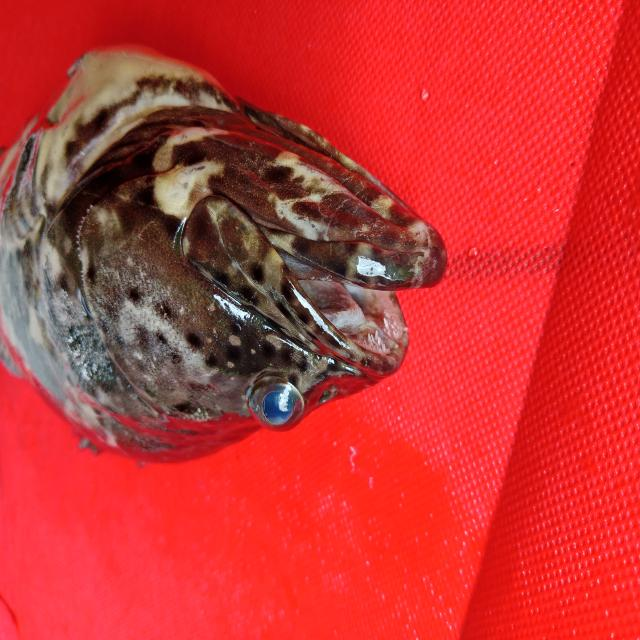ikan: (4, 27, 463, 484)
